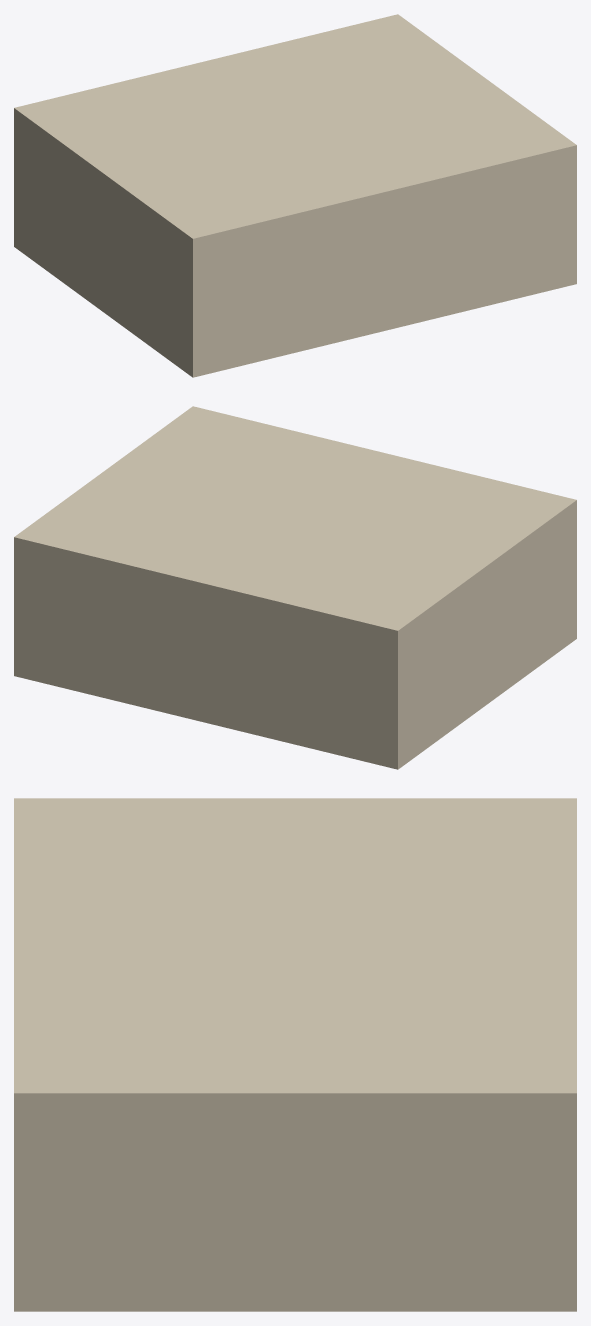
Rendered from lobby_alfa_static.fbx.
The picture shows the model from 3 angles, top to bottom: view 1: azimuth 30°, elevation 25°; view 2: azimuth 150°, elevation 25°; view 3: azimuth 270°, elevation 25°; orthographic projection. The views are drawn at different scales.
Visible parts, largest first — view 1: LobbyShell; view 2: LobbyShell; view 3: LobbyShell.
Boxes of the visible parts, x1=… form: LobbyShell: x1=14, y1=14, x2=576, y2=377; LobbyShell: x1=14, y1=406, x2=576, y2=769; LobbyShell: x1=14, y1=798, x2=576, y2=1311.
Size of the model in its own units: 10.36 by 3.58 by 8.36.
